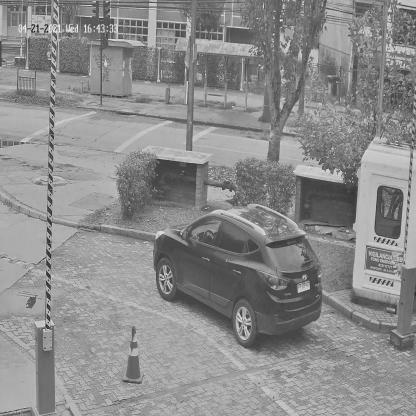Patente: (297, 278, 311, 295)
